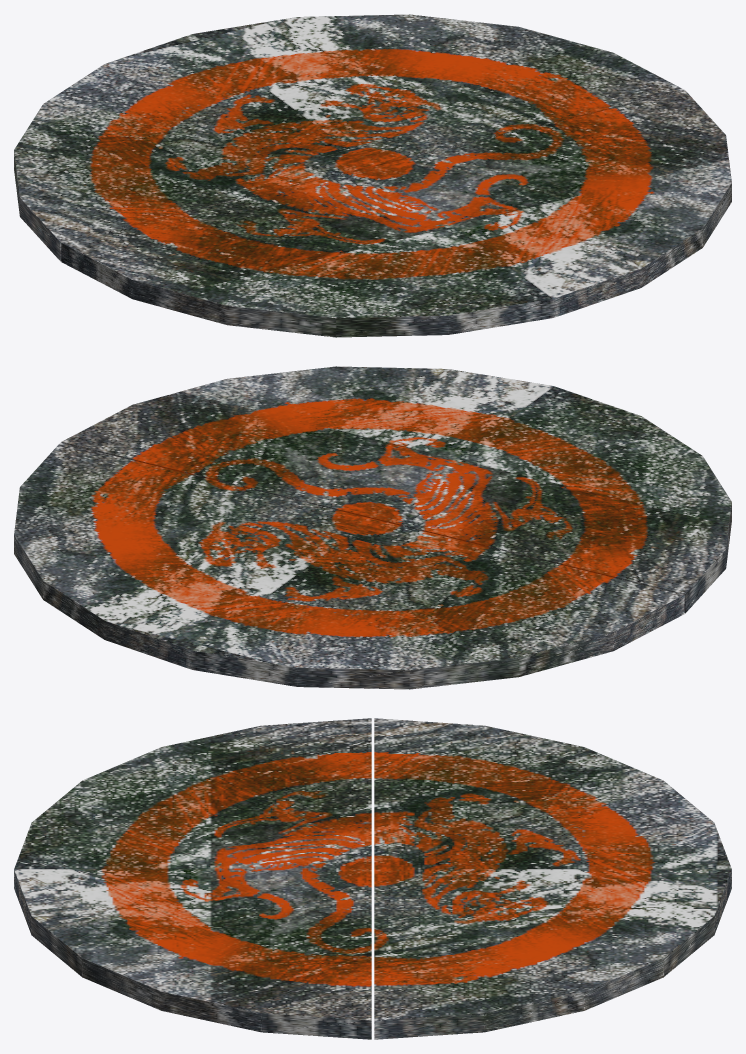
File: rolling_door.fbx
3 renders of one model, top to bottom at view 1: azimuth 30°, elevation 25°; view 2: azimuth 150°, elevation 25°; view 3: azimuth 270°, elevation 25°, orthographic.
Visible parts, largest first — view 1: polySurface11, polySurface10; view 2: polySurface10, polySurface11; view 3: polySurface10, polySurface11.
Boxes of the visible parts, x1,y1,x2,y2 form: polySurface11: (61,90,731,337); polySurface10: (14,14,684,261); polySurface10: (14,442,684,689); polySurface11: (61,366,731,613); polySurface10: (374,718,731,1039); polySurface11: (14,718,371,1039).
Size of the model in its own units: 0.2753 by 0.00811 by 0.2762.
